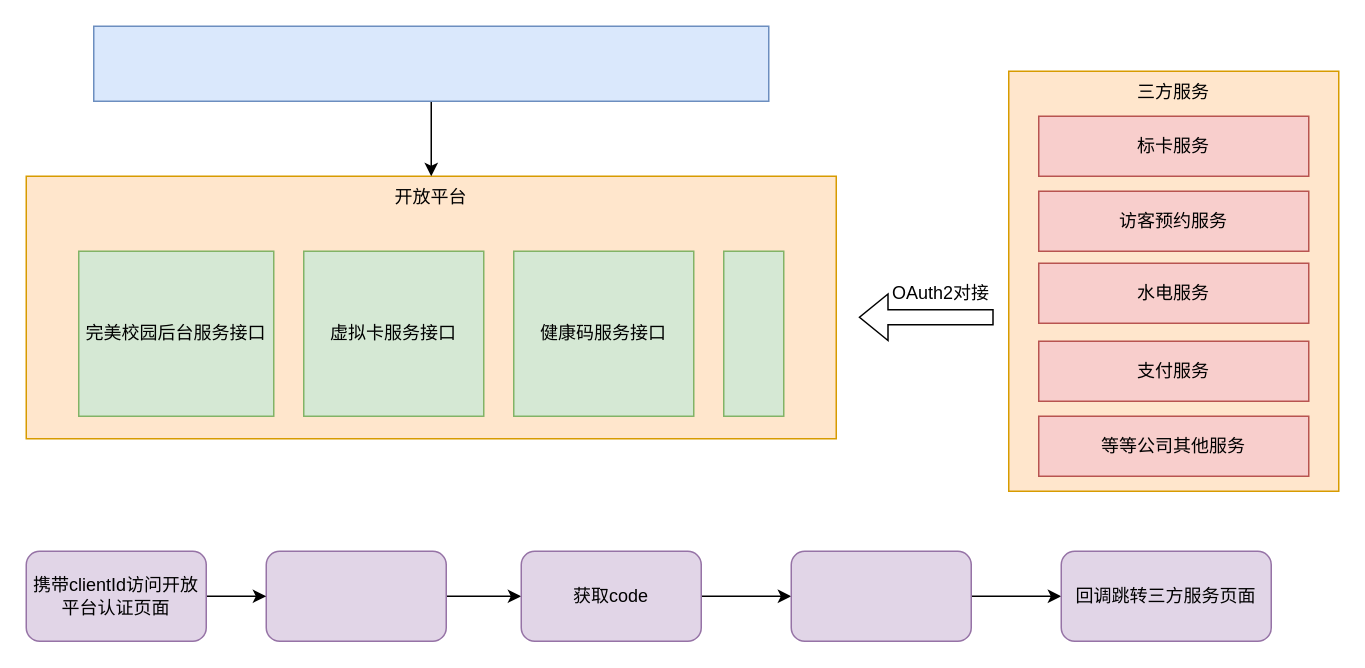
This 1365x668 diagram has some shape labels left out. Here are the shapes that lost their labels. From the top down, the centre of each, then its label:
point (430, 63): 统一完校用户账号登录认证入口
point (753, 333): 等...
point (355, 595): 统一完校用户账号登录
point (880, 595): 获取accessToken
